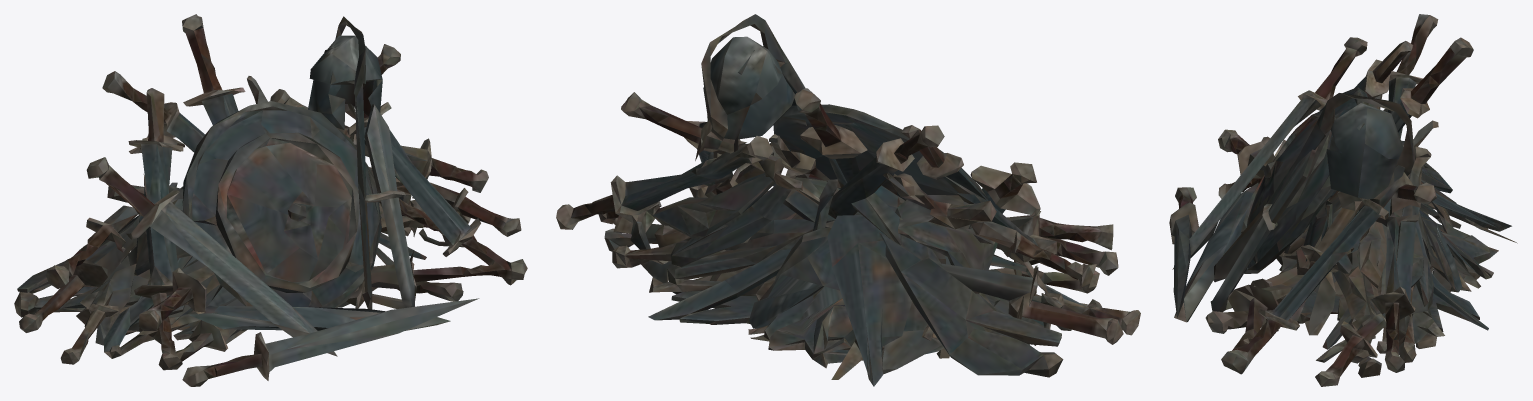
File: decor-weapons.glb
The picture shows the model from 3 angles, left to right: view 1: azimuth 30°, elevation 25°; view 2: azimuth 150°, elevation 25°; view 3: azimuth 270°, elevation 25°; orthographic projection. The views are drawn at different scales.
Size of the model in its own units: 1.89 by 0.8946 by 1.18.
Materials: 1 (1 with a texture image).
